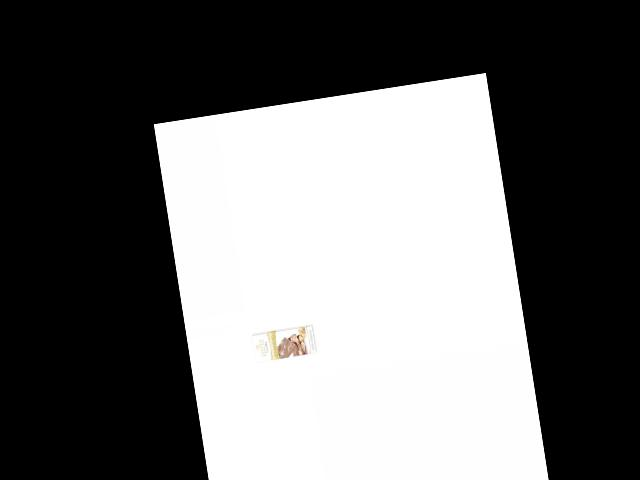chocolate: (246, 319, 317, 369)
